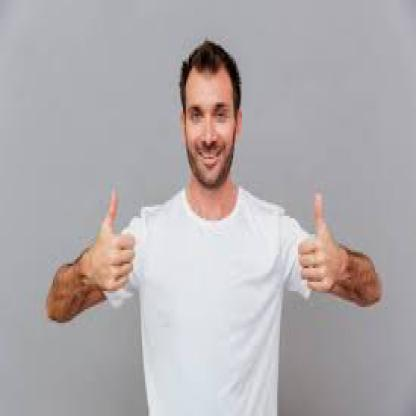Thumbs up: (297, 173, 340, 302), (93, 183, 135, 294)
